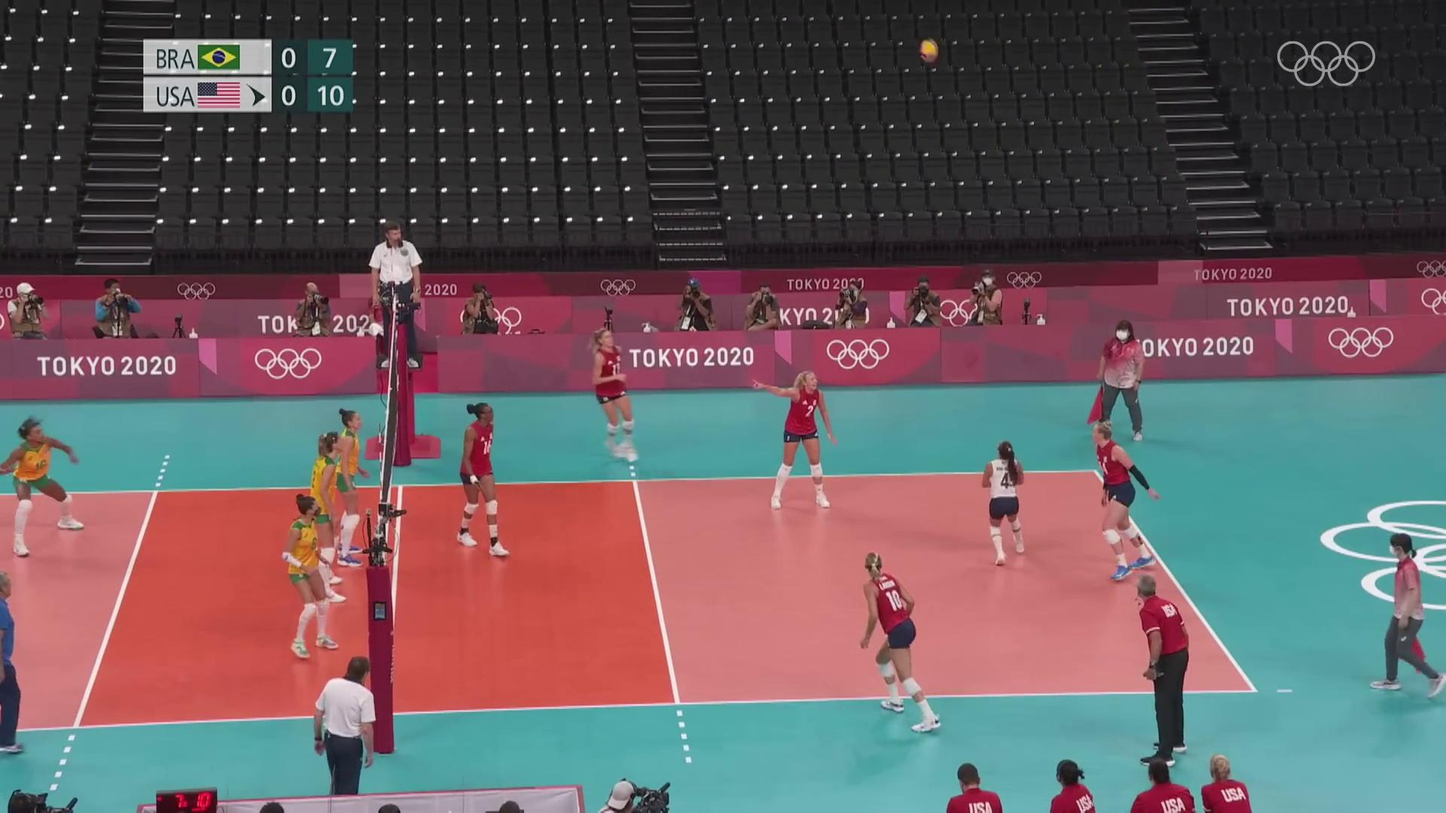player: (856, 552, 943, 736), (2, 418, 88, 557), (1091, 424, 1160, 581), (759, 371, 834, 511), (287, 491, 339, 658), (455, 402, 510, 559), (302, 431, 351, 603), (325, 407, 374, 569), (592, 327, 642, 465), (977, 441, 1031, 565)
refree: (1376, 532, 1442, 699), (310, 658, 379, 802), (371, 223, 424, 369), (1090, 317, 1151, 441)
